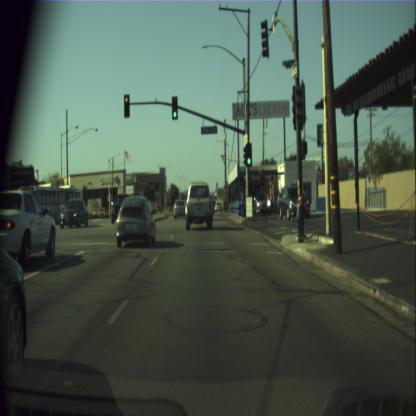Green: (171, 96, 178, 120), (246, 142, 252, 166)
RedLeft: (124, 94, 129, 118)
